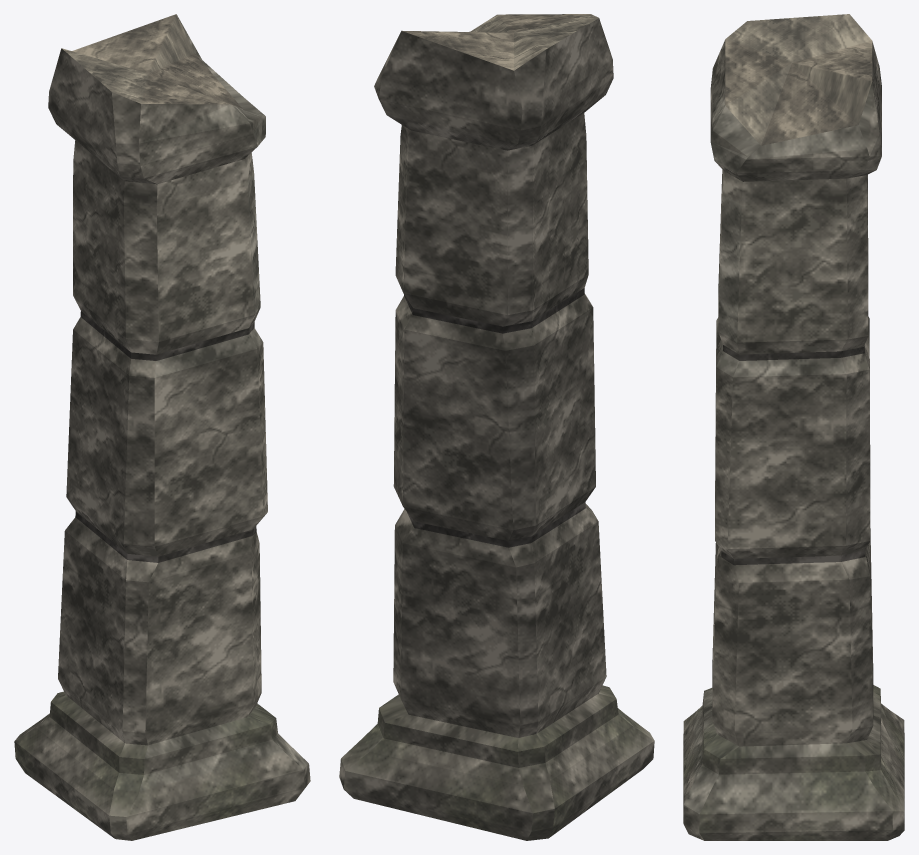
Rendered from Pilar.glb.
3 views of the same model, side by side, from view 1: azimuth 30°, elevation 25°; view 2: azimuth 150°, elevation 25°; view 3: azimuth 270°, elevation 25° (orthographic). The views are drawn at different scales.
Visible parts, largest first — view 1: Fuste, Pedestal, Capitel quebrado, Fratura; view 2: Fuste, Pedestal, Capitel quebrado, Fratura; view 3: Fuste, Pedestal, Fratura, Capitel quebrado.
Boxes of the visible parts, x1,y1,x2,y2 form: Fuste: (58,140,267,745); Pedestal: (14,691,310,840); Capitel quebrado: (48,15,265,184); Fratura: (61,14,242,108); Fuste: (393,113,606,737); Pedestal: (339,685,654,840); Capitel quebrado: (374,18,613,150); Fratura: (402,14,598,70); Fuste: (712,169,873,746); Pedestal: (683,685,904,840); Fratura: (725,14,872,145); Capitel quebrado: (710,40,881,181).
Size of the model in its own units: 0.735 by 2.54 by 0.684.
3 materials, 3 textured.
